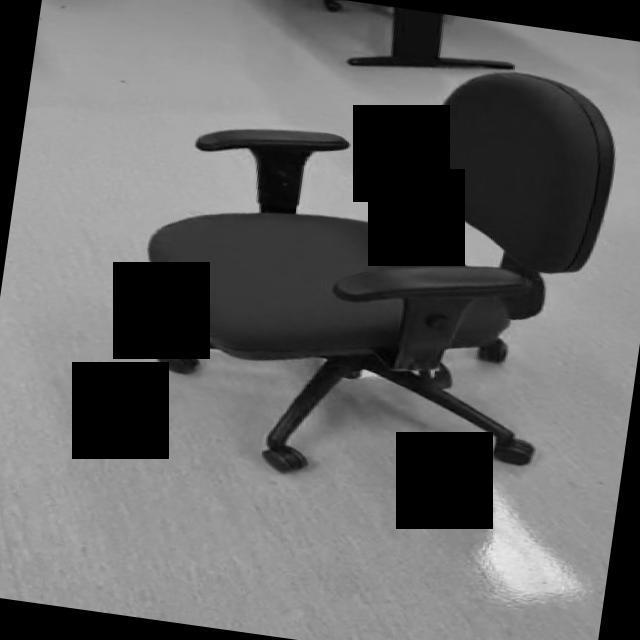chair: (119, 25, 626, 513)
